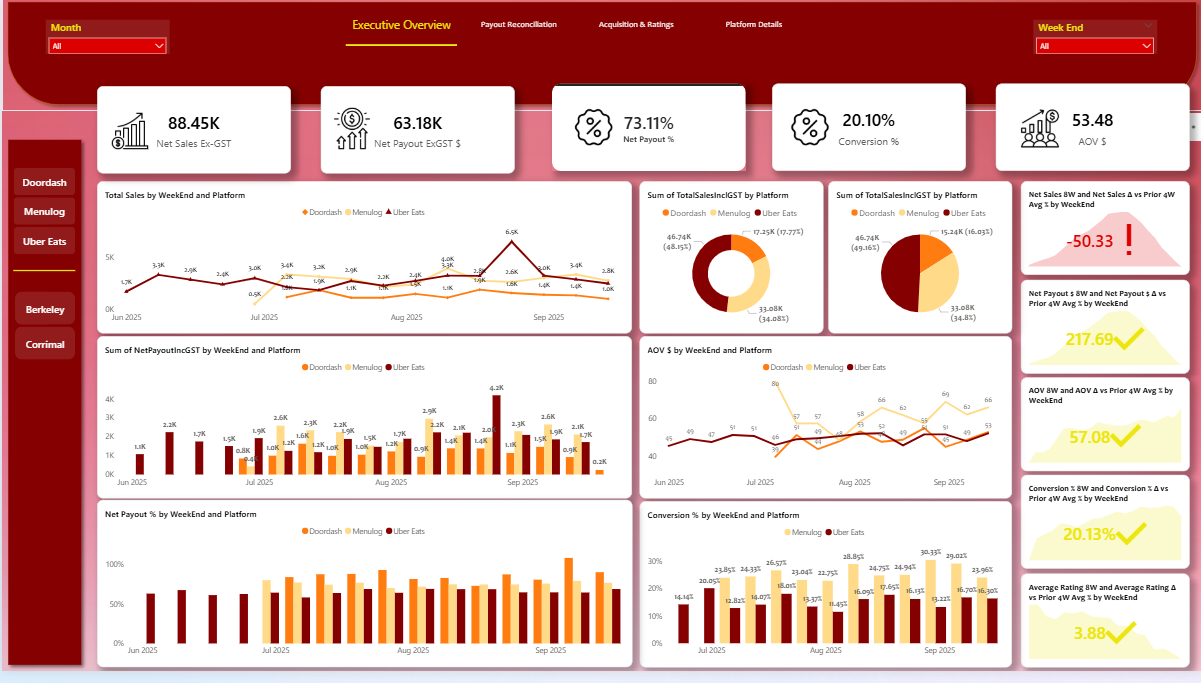

Layout of this report page (visuals, bound fields, positions):
{"tool":"powerbi","page":{"name":"Executive Overview","canvas":[1920,1080],"ordinal":0},"visuals":[{"type":"shape","box":[0,0,1920.9,183.2],"z":0},{"type":"shape","box":[0,219.9,136.9,860.1],"z":1000},{"type":"advancedSlicerVisual","fields":{"Values":["DimStore.StoreName"]},"box":[16.3,468.7,106.8,119.4],"z":2000},{"type":"advancedSlicerVisual","fields":{"Values":["DimPlatform.Platform"]},"box":[14.5,269.6,108.6,148.4],"z":3000},{"type":"shape","box":[18.1,432.5,99.5,14.5],"z":5000},{"type":"pageNavigator","box":[550,10,742,70],"z":8000},{"type":"slicer","fields":{"Values":["DimWeek.WeekEnd"]},"box":[1650,38,198,54],"z":9000},{"type":"card","fields":{"Values":["_Measures.AOV"]},"box":[1590,140,310,140],"z":10000},{"type":"slicer","fields":{"Values":["DimWeek.MonthName"]},"box":[70,38,198,54],"z":11000},{"type":"card","fields":{"Values":["_Measures.Net Payout ExGST $"]},"box":[510,144,310,140],"z":12000},{"type":"image","box":[506,174,108,76],"z":13000},{"type":"card","fields":{"Values":["_Measures.Conversion %"]},"box":[1232,140,310,140],"z":14000},{"type":"image","box":[1624,176,74,72],"z":15000},{"type":"image","box":[1252,170,82,80],"z":16000},{"type":"lineChart","fields":{"Category":["DimWeek.WeekEnd"],"Series":["DimPlatform.Platform"],"Y":["_Measures.Total Sales"]},"box":[152,296,856,244],"z":18000},{"type":"kpi","fields":{"TrendLine":["DimWeek.WeekEnd"],"Indicator":["_Measures.Net Sales 8W"],"Goal":["_Measures.Net Sales Δ vs Prior 4W Avg %"]},"box":[1630,296,270,150],"z":19000},{"type":"card","fields":{"Values":["_Measures.Net Sales Ex-GST"]},"box":[152,144,310,140],"z":20000},{"type":"kpi","fields":{"TrendLine":["DimWeek.WeekEnd"],"Indicator":["_Trend tiles measures.Net Payout $ 8W"],"Goal":["_Trend tiles measures.Net Payout $ Δ vs Prior 4W Avg %"]},"box":[1630,453.3,270,150],"z":21000},{"type":"kpi","fields":{"TrendLine":["DimWeek.WeekEnd"],"Indicator":["_Trend tiles measures.AOV 8W"],"Goal":["_Trend tiles measures.AOV Δ vs Prior 4W Avg %"]},"box":[1630,610,270,150],"z":22000},{"type":"kpi","fields":{"TrendLine":["DimWeek.WeekEnd"],"Indicator":["_Trend tiles measures.Conversion % 8W"],"Goal":["_Trend tiles measures.Conversion % Δ vs Prior 4W Avg %"]},"box":[1630,766.7,270,150],"z":23000},{"type":"kpi","fields":{"TrendLine":["DimWeek.WeekEnd"],"Indicator":["_Trend tiles measures.Average Rating 8W"],"Goal":["_Trend tiles measures.Average Rating Δ vs Prior 4W Avg %"]},"box":[1630,924,270,150],"z":24000},{"type":"donutChart","fields":{"Series":["DimPlatform.Platform"],"Y":["Sum(Fact_Payouts.TotalSalesInclGST)"]},"box":[1020,296,294,244],"z":25000},{"type":"pieChart","fields":{"Series":["DimPlatform.Platform"],"Y":["Sum(Fact_Sales.TotalSalesInclGST)"]},"box":[1322,296,294,244],"z":26000},{"type":"clusteredColumnChart","fields":{"Category":["DimWeek.WeekEnd"],"Series":["DimPlatform.Platform"],"Y":["Sum(Fact_Payouts.NetPayoutIncGST)"]},"box":[152,544,856,260],"z":27000},{"type":"cardVisual","fields":{"Data":["_Measures.Net Payout %"]},"box":[880,140,310,140],"z":28000},{"type":"lineChart","fields":{"Category":["DimWeek.WeekEnd"],"Series":["DimPlatform.Platform"],"Y":["_Measures.AOV"]},"box":[1020,544,596,260],"z":29000},{"type":"clusteredColumnChart","fields":{"Category":["DimWeek.WeekEnd"],"Series":["DimPlatform.Platform"],"Y":["_Measures.Conversion %"]},"box":[1020,808,596,266],"z":30000},{"type":"lineClusteredColumnComboChart","fields":{"Category":["DimWeek.WeekEnd"],"Series":["DimPlatform.Platform"],"Y":["_Measures.Net Payout %"]},"box":[151.7,806.7,856.7,268.3],"z":31000},{"type":"image","box":[906,170,82,80],"z":32000},{"type":"image","box":[170,182,70,68],"z":32500}]}

Visuals, with their boxes on the page's 1920x1080 design canvas (x1, y1, x2, y2). These are canvas units, not pixel positions in the 1201x683 screenshot, which may show the page scaled, cropped or inside an application window:
shape: pyautogui.locateOnScreen(0, 0, 1921, 183)
shape: pyautogui.locateOnScreen(0, 220, 137, 1080)
advancedSlicerVisual - DimStore.StoreName: pyautogui.locateOnScreen(16, 469, 123, 588)
advancedSlicerVisual - DimPlatform.Platform: pyautogui.locateOnScreen(14, 270, 123, 418)
shape: pyautogui.locateOnScreen(18, 432, 118, 447)
pageNavigator: pyautogui.locateOnScreen(550, 10, 1292, 80)
slicer - DimWeek.WeekEnd: pyautogui.locateOnScreen(1650, 38, 1848, 92)
card - _Measures.AOV: pyautogui.locateOnScreen(1590, 140, 1900, 280)
slicer - DimWeek.MonthName: pyautogui.locateOnScreen(70, 38, 268, 92)
card - _Measures.Net Payout ExGST $: pyautogui.locateOnScreen(510, 144, 820, 284)
image: pyautogui.locateOnScreen(506, 174, 614, 250)
card - _Measures.Conversion %: pyautogui.locateOnScreen(1232, 140, 1542, 280)
image: pyautogui.locateOnScreen(1624, 176, 1698, 248)
image: pyautogui.locateOnScreen(1252, 170, 1334, 250)
lineChart - DimWeek.WeekEnd x DimPlatform.Platform: pyautogui.locateOnScreen(152, 296, 1008, 540)
kpi - DimWeek.WeekEnd x _Measures.Net Sales 8W: pyautogui.locateOnScreen(1630, 296, 1900, 446)
card - _Measures.Net Sales Ex-GST: pyautogui.locateOnScreen(152, 144, 462, 284)
kpi - DimWeek.WeekEnd x _Trend tiles measures.Net Payout $ 8W: pyautogui.locateOnScreen(1630, 453, 1900, 603)
kpi - DimWeek.WeekEnd x _Trend tiles measures.AOV 8W: pyautogui.locateOnScreen(1630, 610, 1900, 760)
kpi - DimWeek.WeekEnd x _Trend tiles measures.Conversion % 8W: pyautogui.locateOnScreen(1630, 767, 1900, 917)
kpi - DimWeek.WeekEnd x _Trend tiles measures.Average Rating 8W: pyautogui.locateOnScreen(1630, 924, 1900, 1074)
donutChart - DimPlatform.Platform x Sum(Fact_Payouts.TotalSalesInclGST): pyautogui.locateOnScreen(1020, 296, 1314, 540)
pieChart - DimPlatform.Platform x Sum(Fact_Sales.TotalSalesInclGST): pyautogui.locateOnScreen(1322, 296, 1616, 540)
clusteredColumnChart - DimWeek.WeekEnd x DimPlatform.Platform: pyautogui.locateOnScreen(152, 544, 1008, 804)
cardVisual - _Measures.Net Payout %: pyautogui.locateOnScreen(880, 140, 1190, 280)
lineChart - DimWeek.WeekEnd x DimPlatform.Platform: pyautogui.locateOnScreen(1020, 544, 1616, 804)
clusteredColumnChart - DimWeek.WeekEnd x DimPlatform.Platform: pyautogui.locateOnScreen(1020, 808, 1616, 1074)
lineClusteredColumnComboChart - DimWeek.WeekEnd x DimPlatform.Platform: pyautogui.locateOnScreen(152, 807, 1008, 1075)
image: pyautogui.locateOnScreen(906, 170, 988, 250)
image: pyautogui.locateOnScreen(170, 182, 240, 250)
